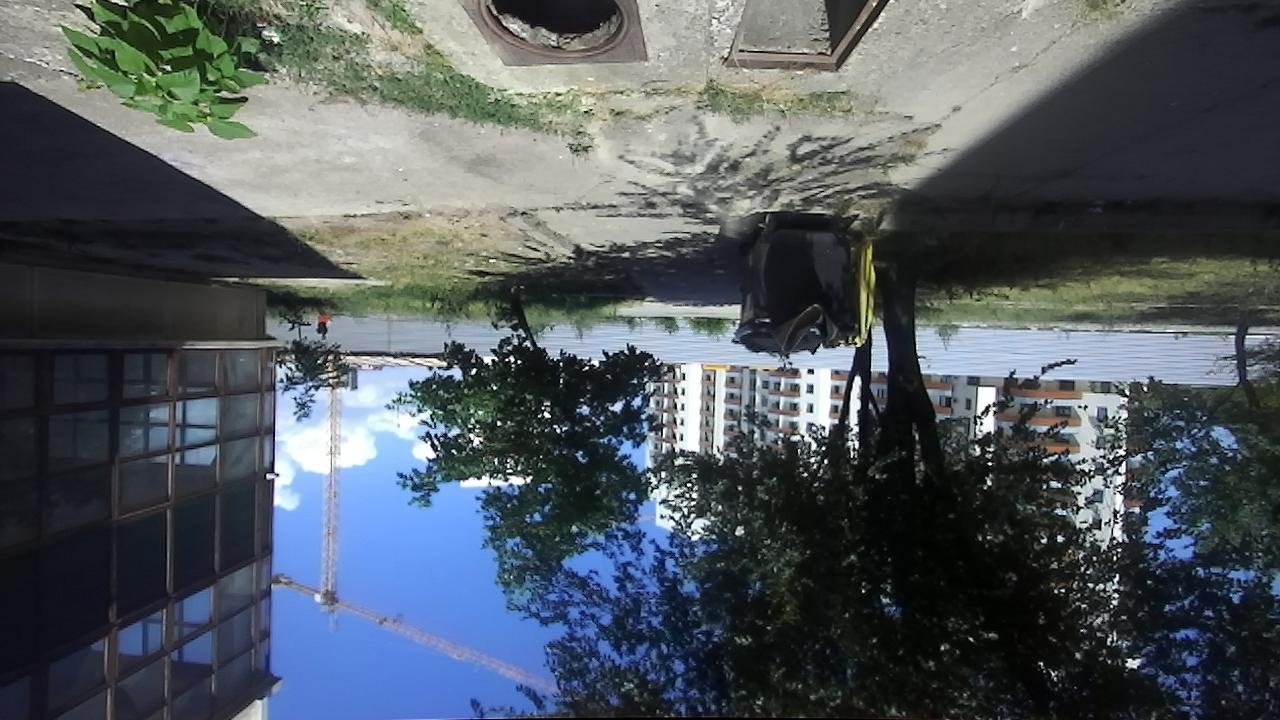drain: (719, 0, 896, 74), (473, 1, 630, 60)
